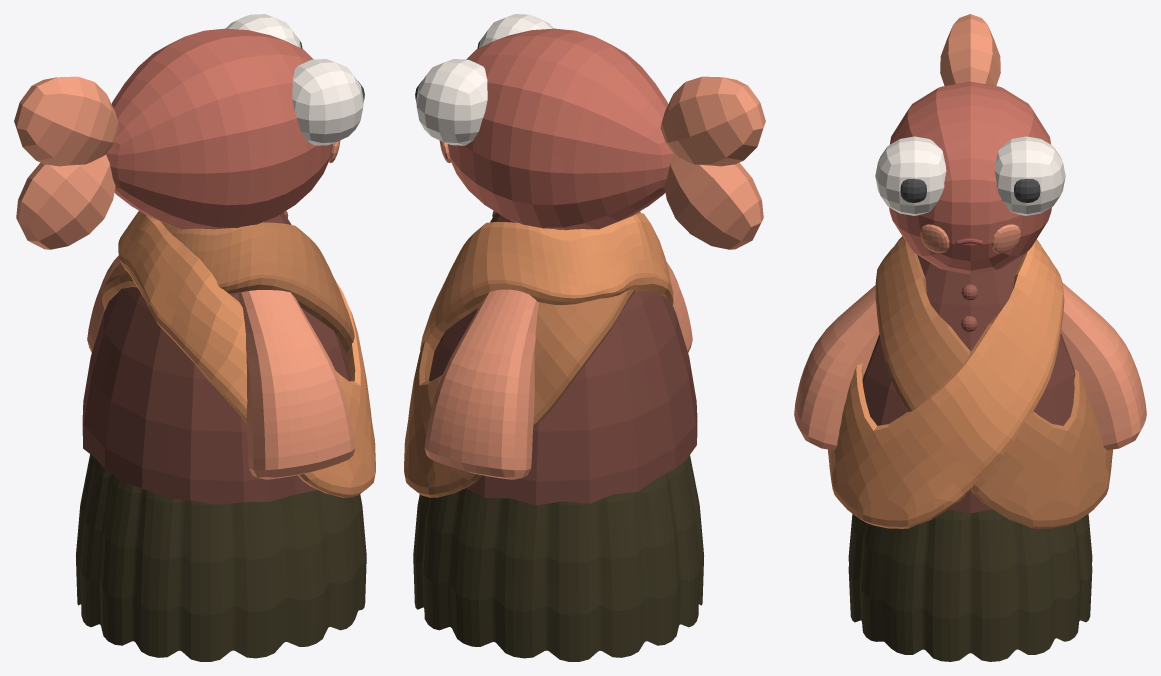
Rendered from npc1.fbx.
3 renders of one model, left to right at view 1: azimuth 30°, elevation 25°; view 2: azimuth 150°, elevation 25°; view 3: azimuth 270°, elevation 25°, orthographic. The views are drawn at different scales.
Visible parts, largest first — view 1: Cube.002; view 2: Cube.002; view 3: Cube.002.
Boxes of the visible parts, box(x1,y1,x2,y2) form: Cube.002: box(14, 14, 375, 661); Cube.002: box(404, 14, 765, 661); Cube.002: box(794, 14, 1146, 661).
Size of the model in its own units: 295 by 483 by 299.
